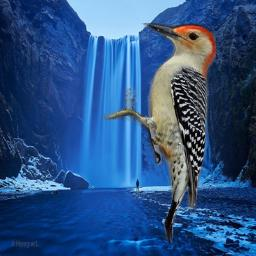Woodpecker: (104, 23, 216, 243)
